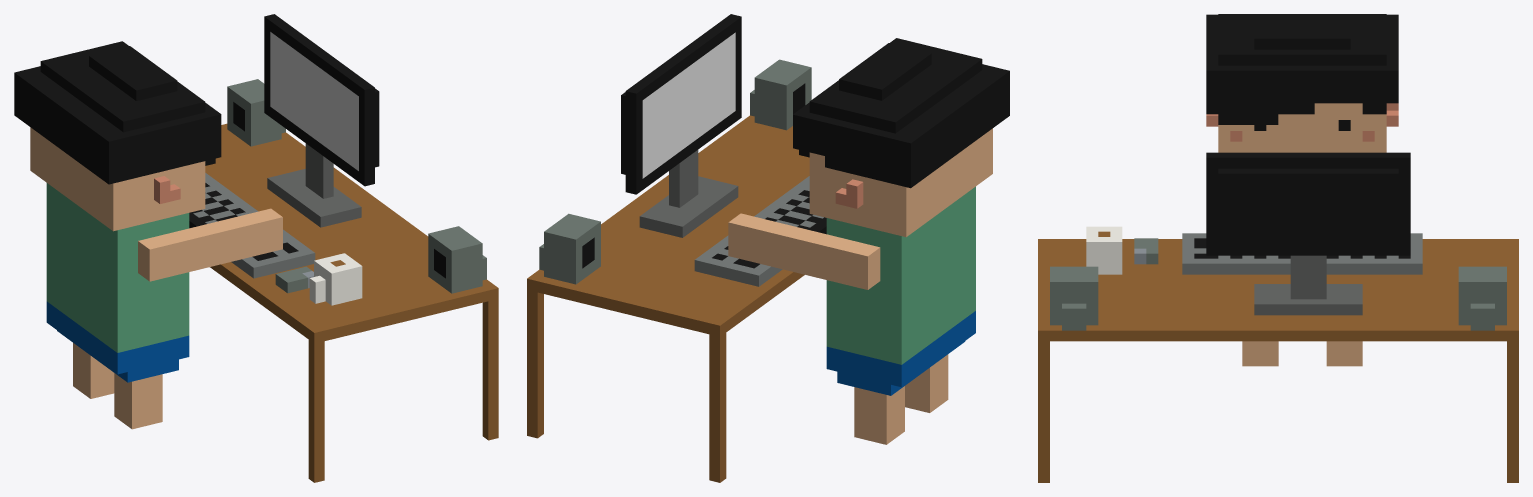
The model's file is voxelMe.glb.
The picture shows the model from 3 angles, left to right: view 1: azimuth 30°, elevation 25°; view 2: azimuth 150°, elevation 25°; view 3: azimuth 270°, elevation 25°; orthographic projection. The views are drawn at different scales.
Parts seen in each view (by area): view 1: Untitled.001; view 2: Untitled.001; view 3: Untitled.001.
Boxes of the visible parts, x1,y1,x2,y2 form: Untitled.001: (14, 14, 498, 482); Untitled.001: (527, 14, 1009, 482); Untitled.001: (1038, 14, 1518, 482).
Bounding box in the file's own units: 3 × 3.1 × 4.
1 material, 1 textured.
